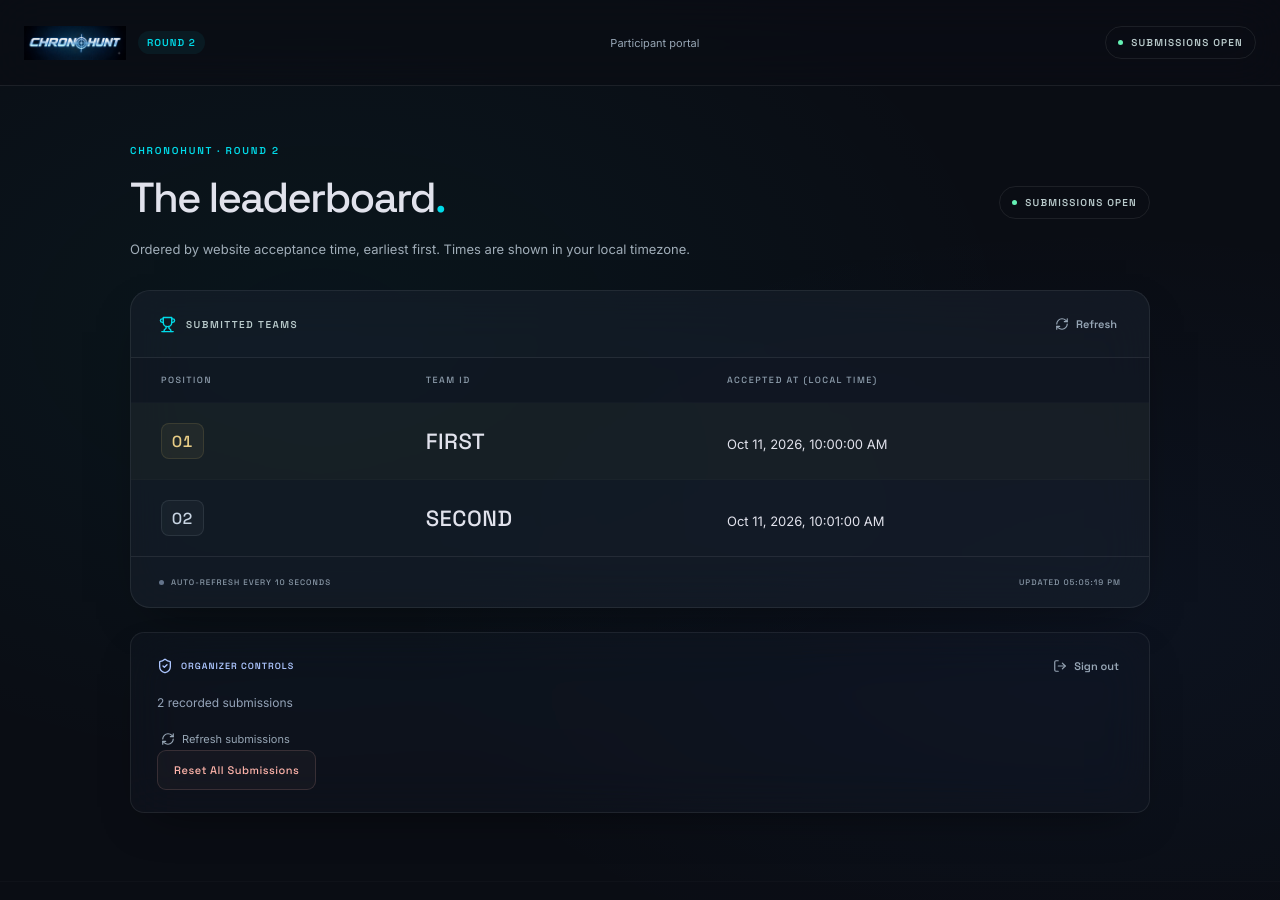
Test case: simplified participant and leaderboard › logout removes management controls
Check: the text "ORGANIZER CONTROLS" is shown, box [157, 658, 294, 674]
Click the button "Sign out": click(1086, 666) [1049, 655, 1123, 677]
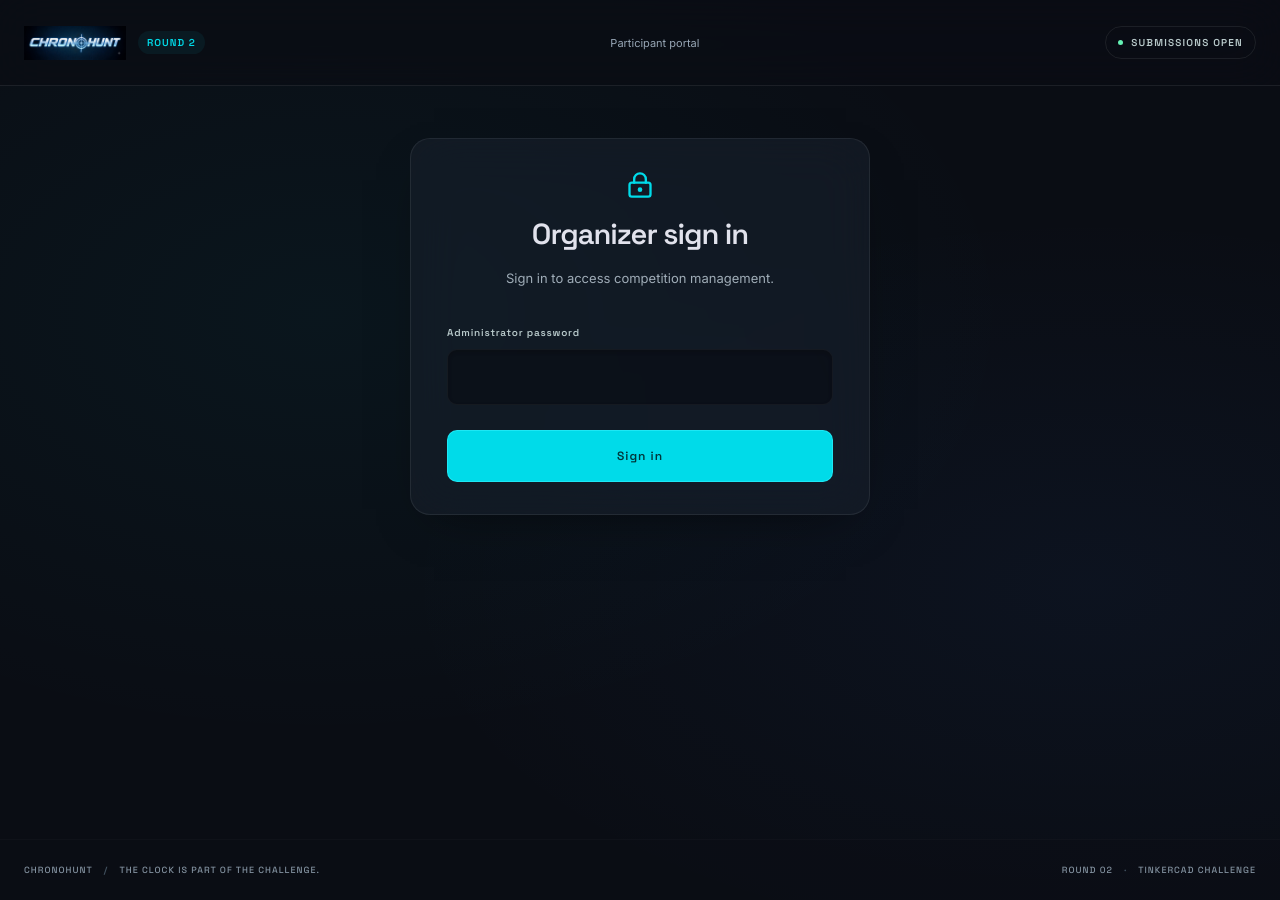
Check: the heading "Organizer sign in" is shown, box [532, 215, 748, 252]
Check: the text "ORGANIZER CONTROLS" is gone
